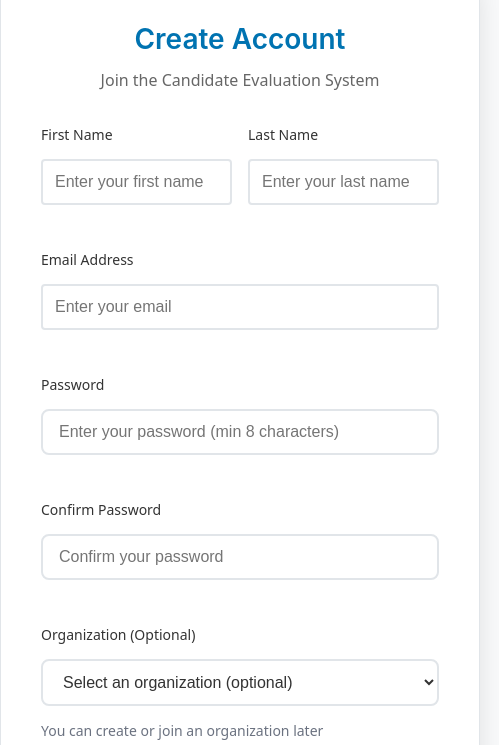
it: RegisterForm › shows error for password mismatch
Type "John" into the field labelled "First Name". click: (136, 182)
box: [41,159,232,205]
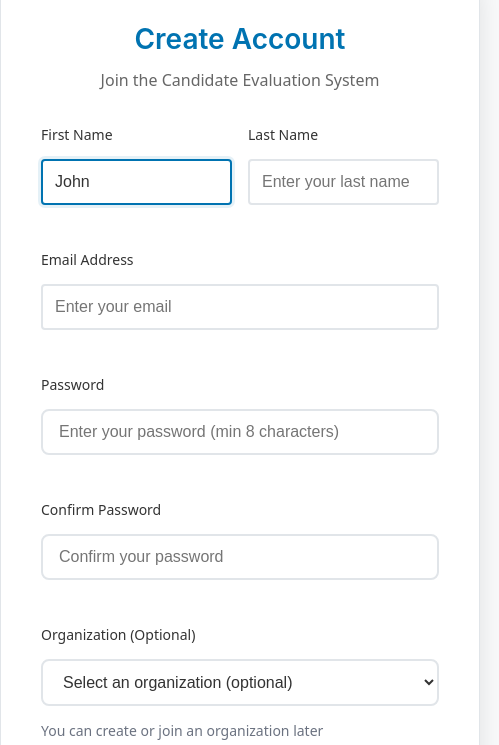
Type "Doe" into the field labelled "Last Name". click: (344, 182)
box: [248,159,439,205]
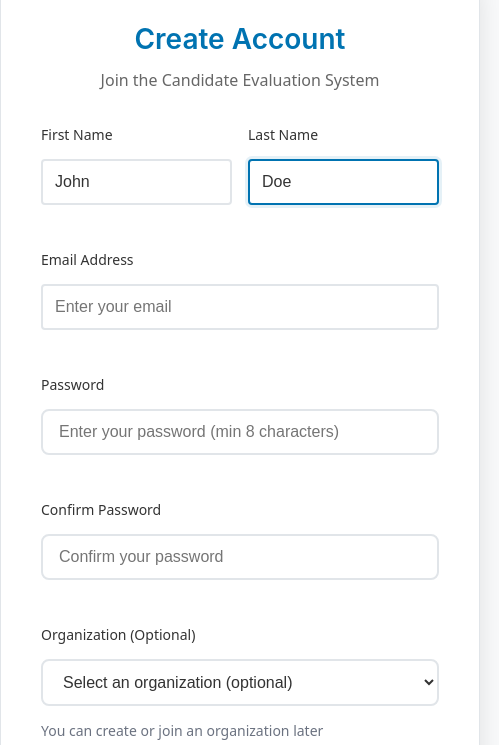
Type "john@example.com" into the field labelled "Email Address". click: (240, 307)
box: [41,284,439,330]
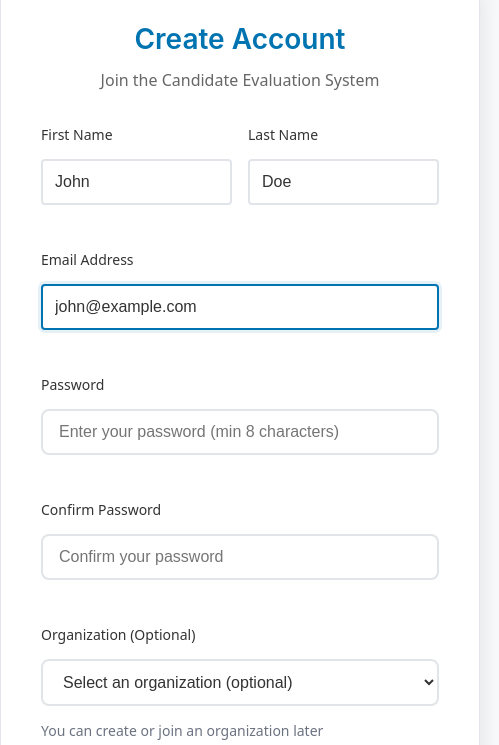
Type "password123" into the password field labelled "Password". click: (240, 432)
box: [41,409,439,455]
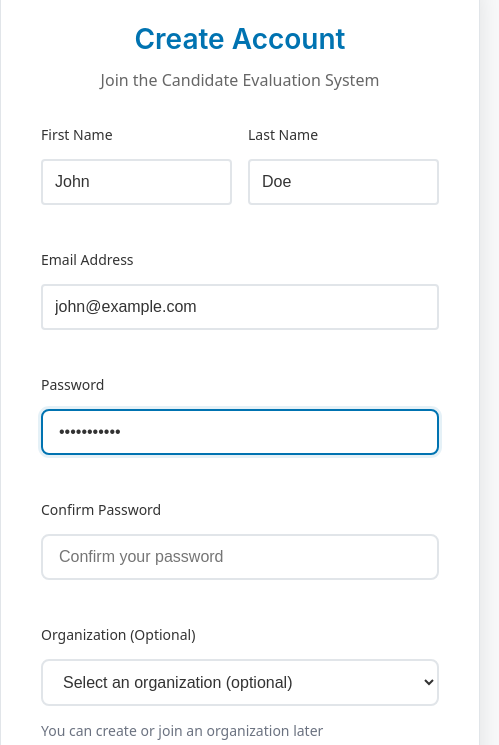
Type "different" into the password field labelled "Confirm Password". click: (240, 557)
box: [41,534,439,580]
(page scrolled)
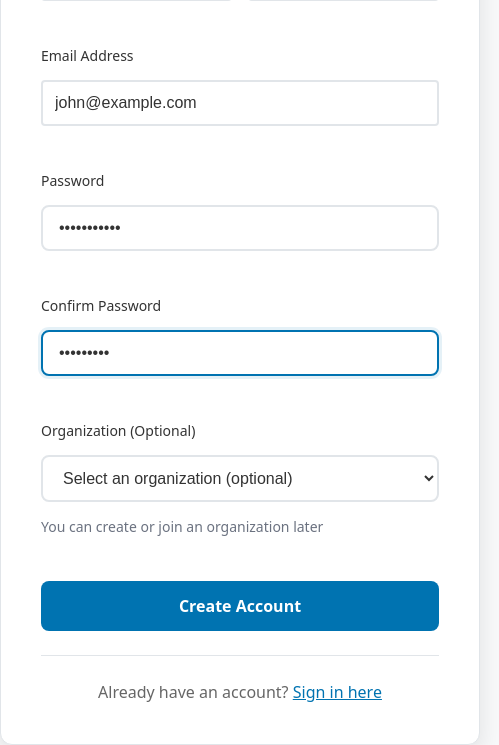
Click the button "Create Account". click: (240, 606)
box: [41,581,439,631]
(page scrolled)
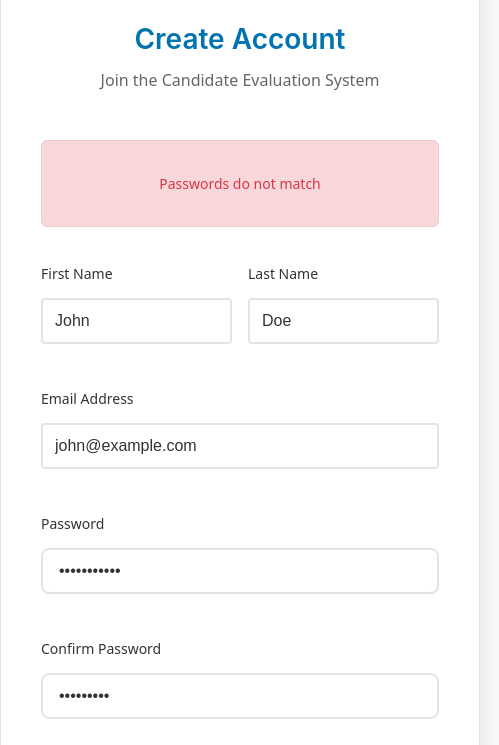
Result: the text "Passwords do not match" is shown at [41,140,439,227]
